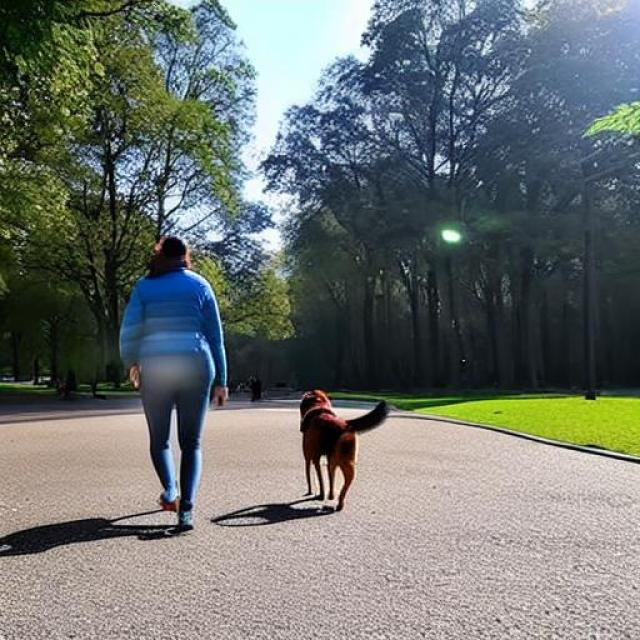Unleashed_Dog: (147, 352, 389, 512)
